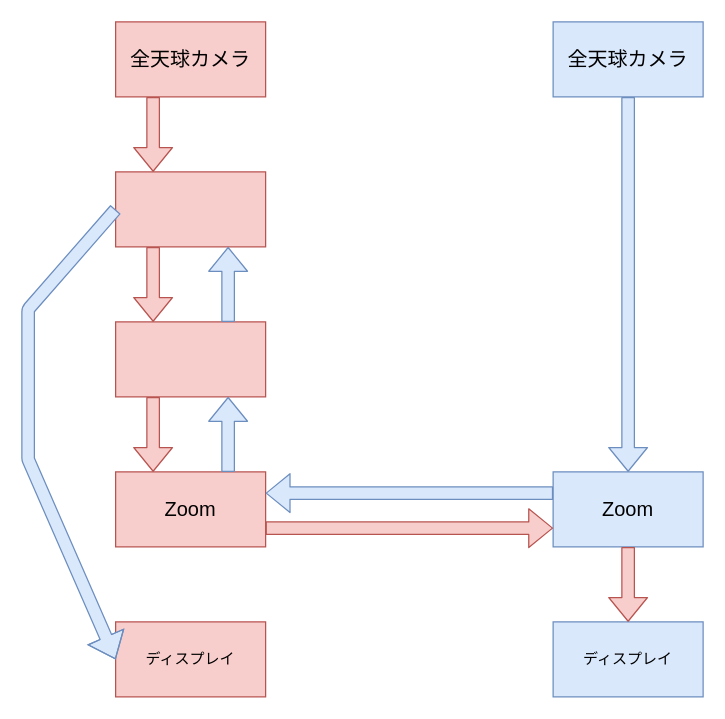
The diagram is 725 pixels wide and 719 high, and some of its shapes have lost their labels. Here are the shapes that lost their labels. From the top down, the centre of each, then its label:
At (190,209): "Python script".
At (190,359): "仮想カメラ".
